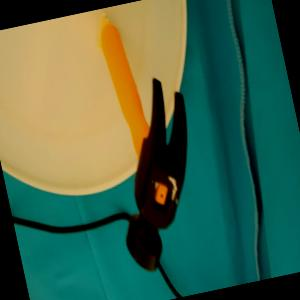martelo: (77, 8, 218, 276)
